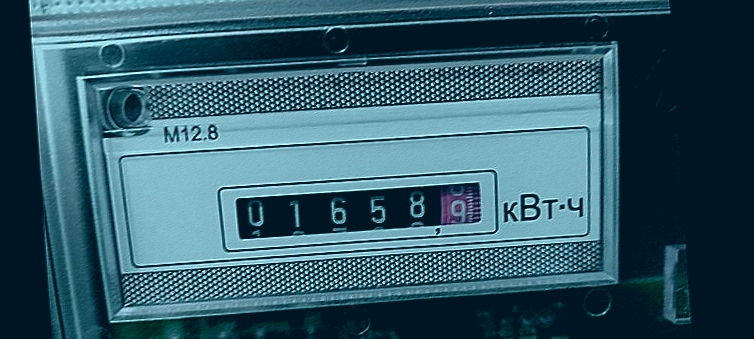0: (243, 194, 266, 228)
1: (287, 196, 302, 228)
5: (367, 191, 388, 224)
6: (327, 193, 349, 225)
8: (406, 187, 427, 220)
9: (447, 196, 466, 223)
screen: (209, 159, 505, 257)
